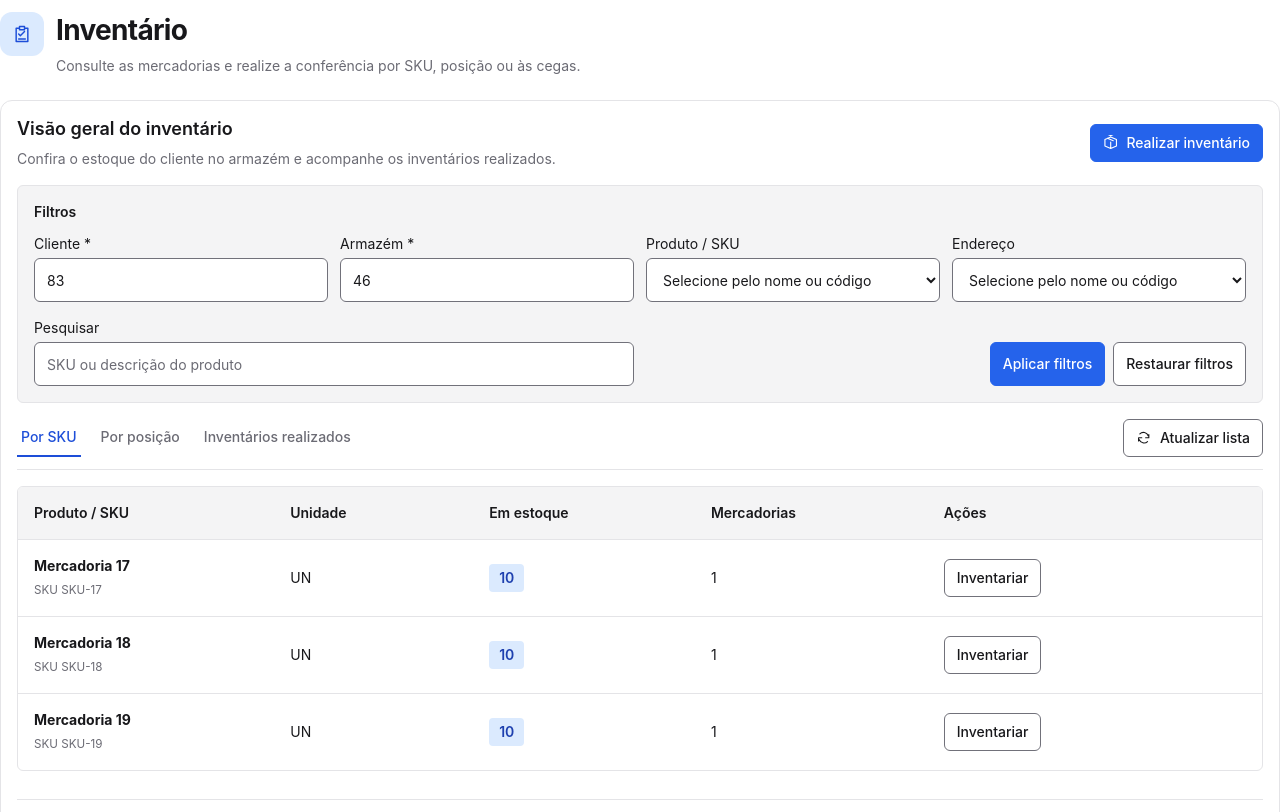
trocar a visão de estoque pelo histórico não interpreta mercadorias como inventários
Check: the text "Mercadoria 17" is shown, box [34,557,130,574]
Click the button "Inventários realizados" at (277, 438), box [200,419,355,457]
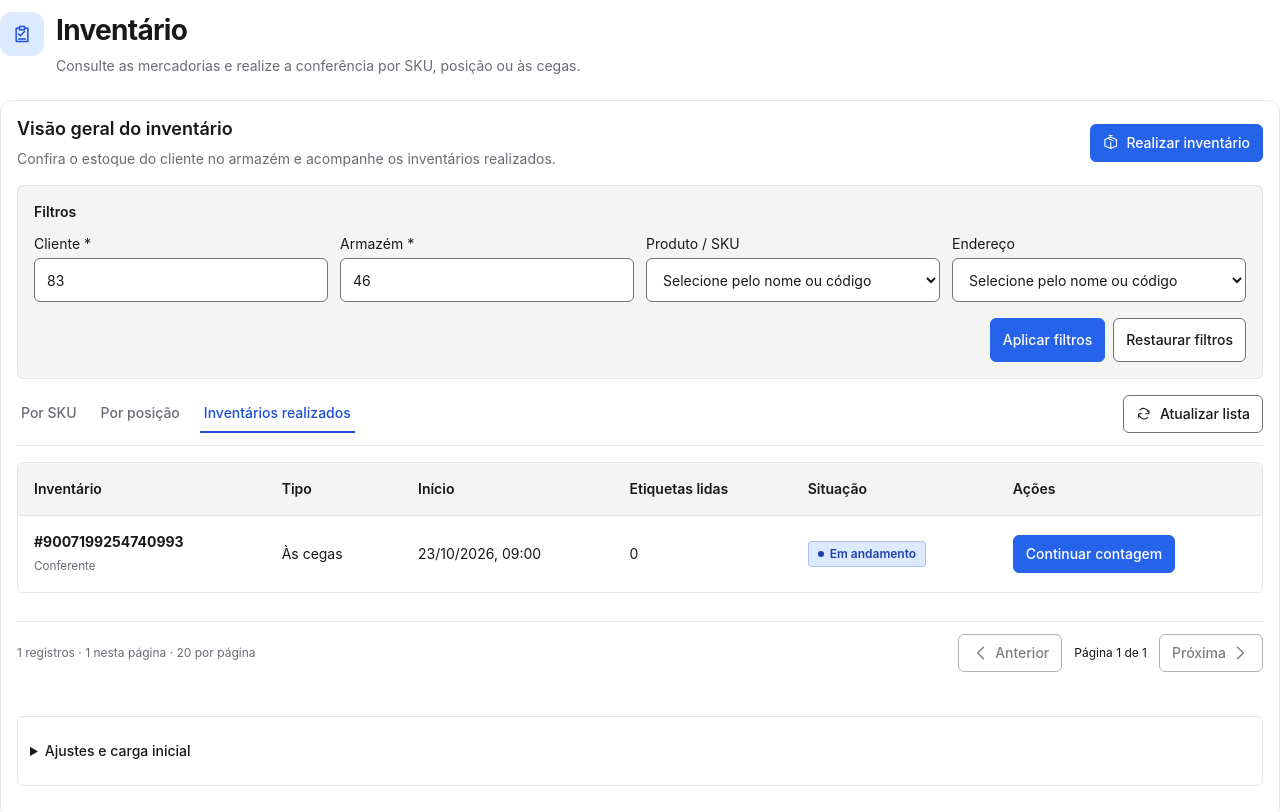
Check: the table named "Inventários realizados" is shown, box [18,463,1262,592]
